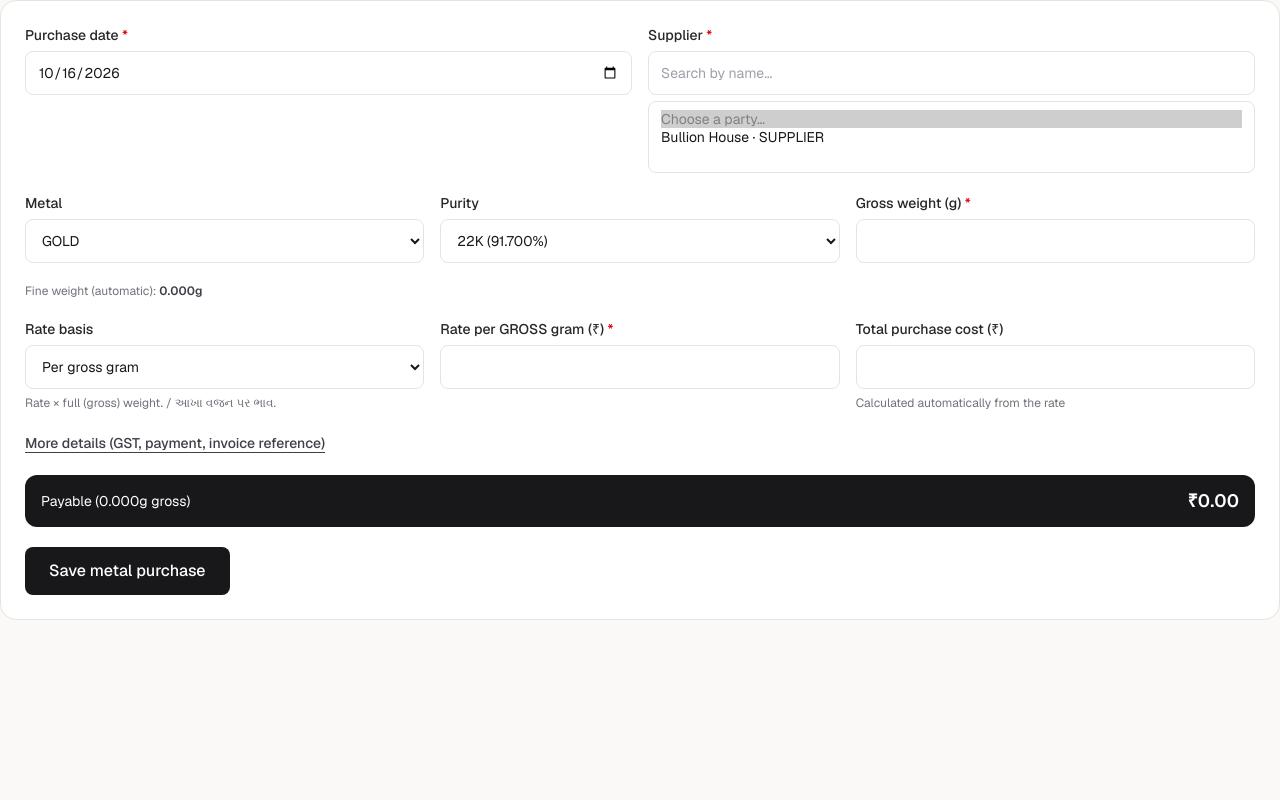
Test: Metal Purchase — rate basis can never be confused › labels the rate by basis and totals a FINE rate on the fine weight
Type "10" into the number field labelled "Gross weight (g) *".
click(1055, 241); type("10")  # box [856, 219, 1255, 263]
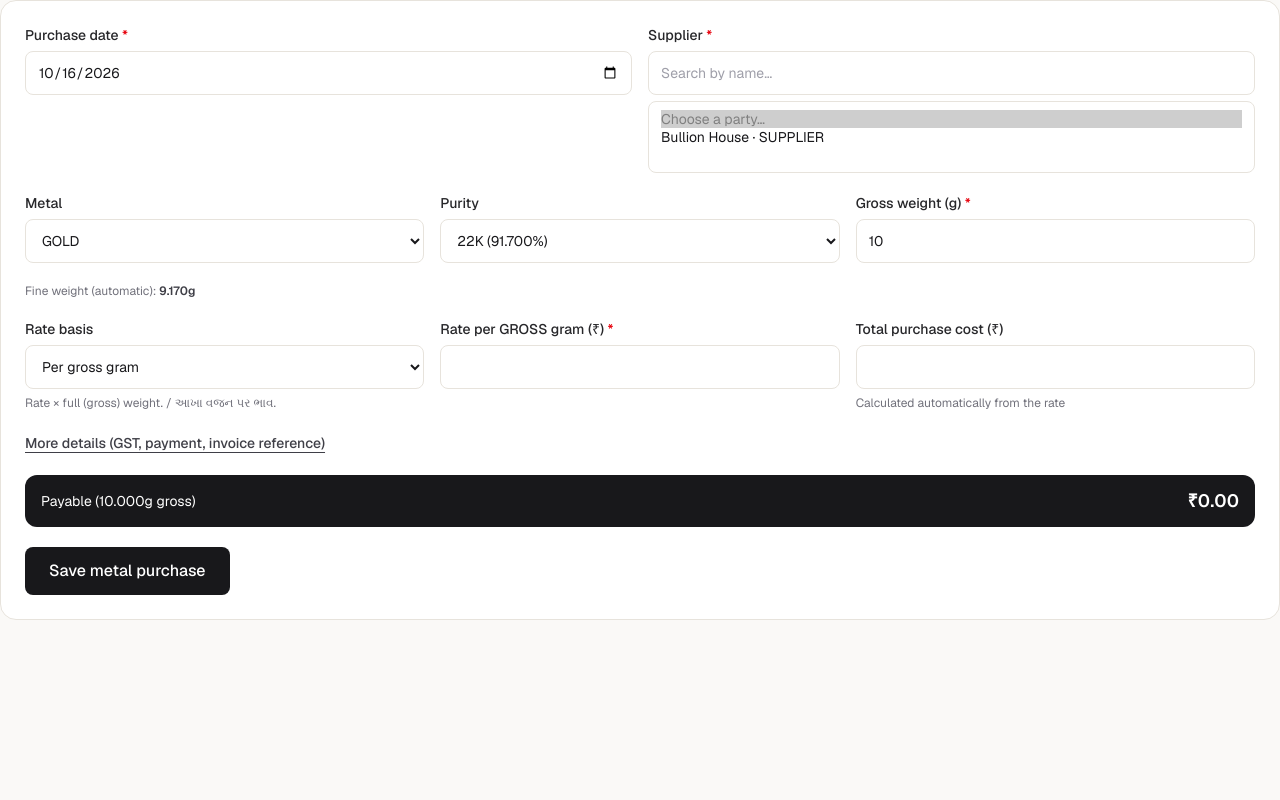
Expected: the number field labelled "Rate per GROSS gram (₹) *" is shown, [440, 345, 840, 389]
Select "Per fine gram" in the dropdown labelled "Rate basis" at (225, 367), box [25, 345, 424, 389]
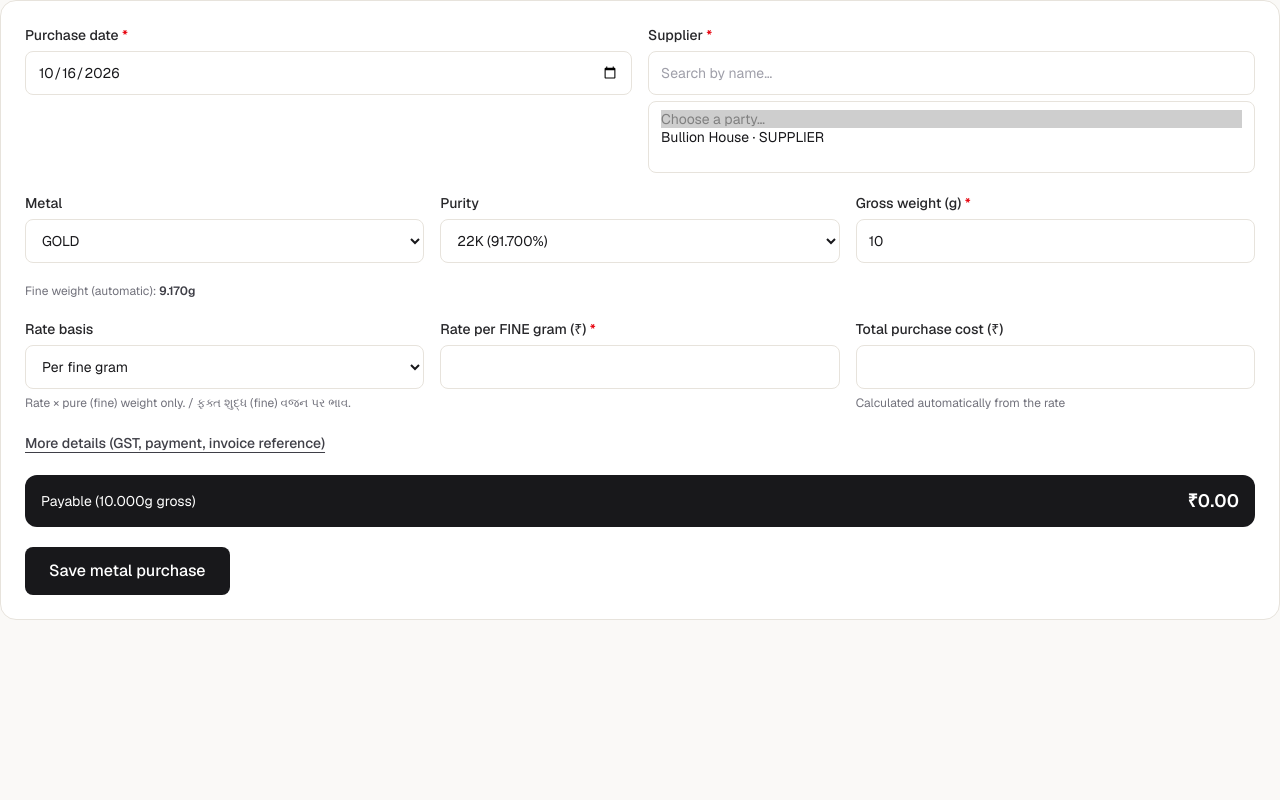
Type "6500" into the number field labelled "Rate per FINE gram (₹) *".
click(640, 367); type("6500")  # box [440, 345, 840, 389]
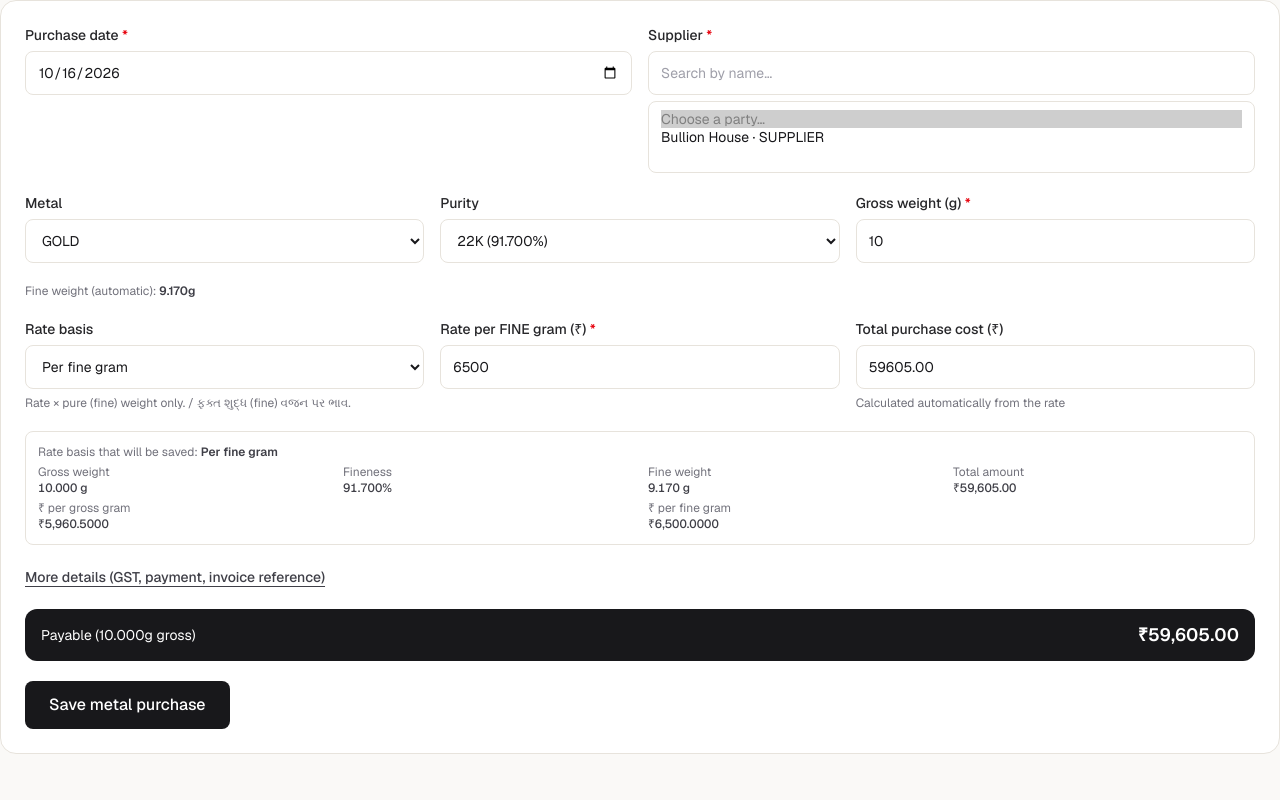
Now the text with test id "rate-basis-hint" shows "fine", box [25, 395, 351, 411]
Now the number field labelled "Total purchase cost (₹)" holds "59605.00", box [856, 345, 1255, 389]
Now the text with test id "effective-rates-basis" reads "Per fine gram", box [201, 444, 278, 460]
